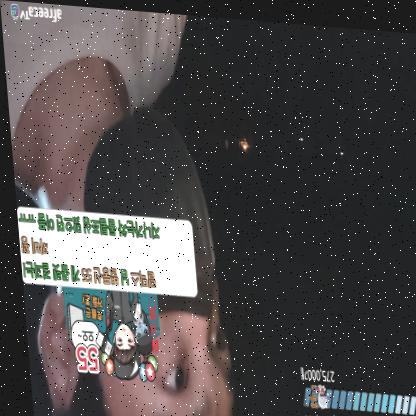donation: (13, 204, 200, 391)
streamer: (0, 0, 233, 416)
